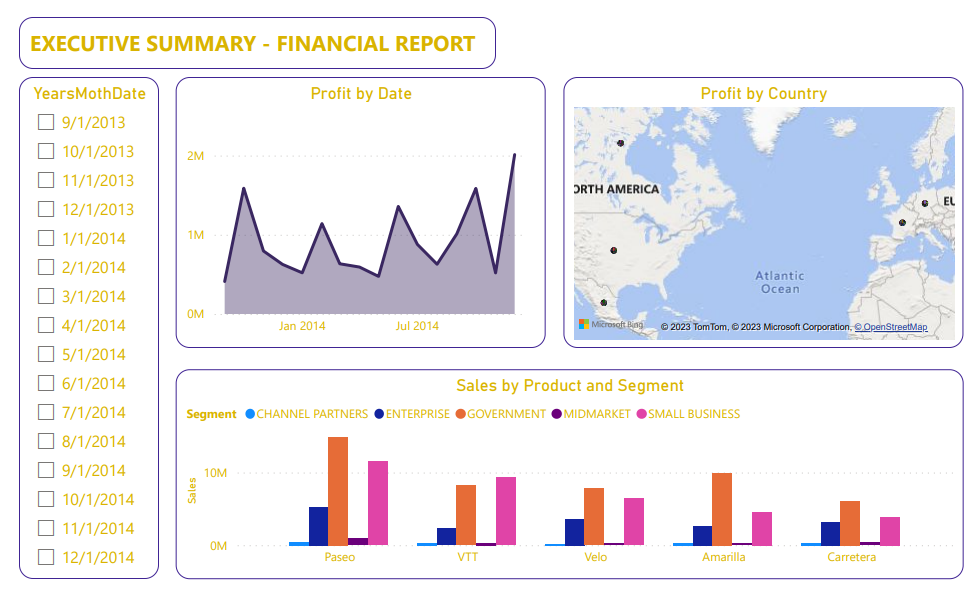

What the dashboard file says about the page in this screenshot:
{"tool":"powerbi","page":{"name":"Page 1","canvas":[1280,720],"ordinal":0},"visuals":[{"type":"textbox","box":[0,0,476.7,52.2],"z":0},{"type":"stackedAreaChart","fields":{"Category":["Calender.Date"],"Y":["Sum(financials.Profit)"]},"box":[156.7,60,370,271.1],"z":1},{"type":"map","title":"Profit by Country","fields":{"Category":["financials.Country"],"Series":["financials.Profit"]},"box":[544.4,60,400,271.1],"z":2},{"type":"clusteredColumnChart","fields":{"Y":["Sum(financials. Sales)"],"Category":["financials.Product"],"Series":["financials.Segment"]},"box":[156.7,352.2,787.8,210],"z":3},{"type":"slicer","title":"YearsMothDate","fields":{"Values":["financials.Date"]},"box":[0,60,140,502.2],"z":4}]}

Visuals, with their boxes on the page's 1280x720 design canvas (x1, y1, x2, y2). These are canvas units, not pixel positions in the 979x600 screenshot, which may show the page scaled, cropped or inside an application window:
textbox: <bbox>0, 0, 477, 52</bbox>
stackedAreaChart - Calender.Date x Sum(financials.Profit): <bbox>157, 60, 527, 331</bbox>
"Profit by Country" map: <bbox>544, 60, 944, 331</bbox>
clusteredColumnChart - Sum(financials. Sales) x financials.Product: <bbox>157, 352, 944, 562</bbox>
"YearsMothDate" slicer: <bbox>0, 60, 140, 562</bbox>
